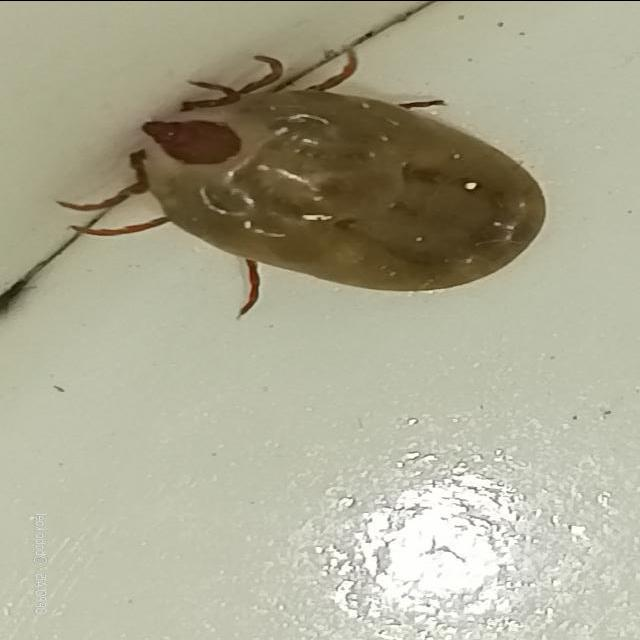Rhipicephalus Sanguineus-F-Fed: (57, 43, 548, 313)
